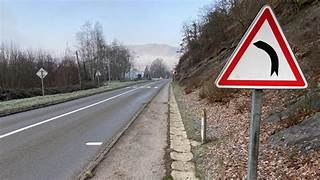left: (213, 5, 309, 89)
